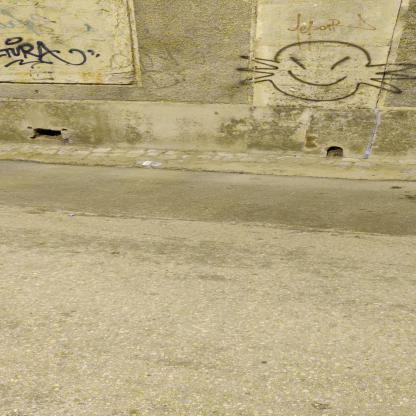plastik: (134, 162, 164, 168)
